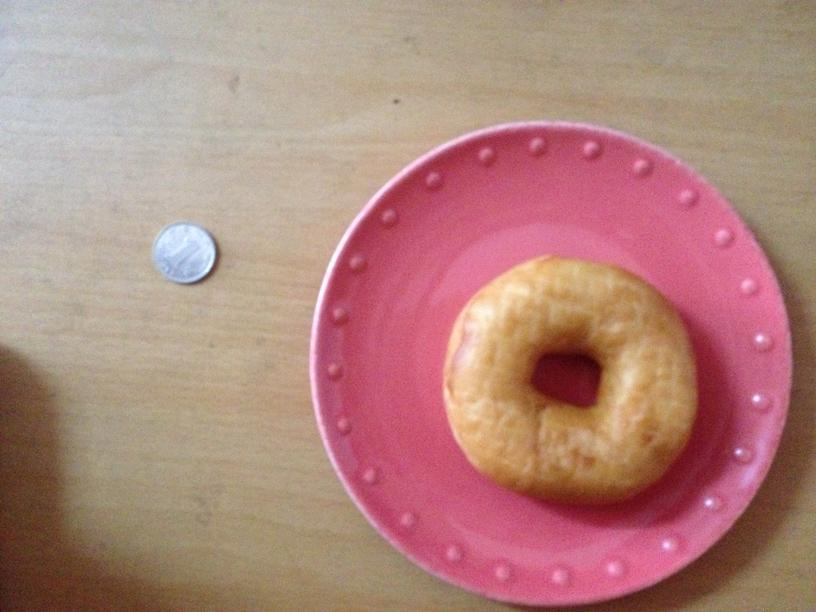coin: (445, 254, 696, 505)
doughnut: (445, 254, 696, 505)
